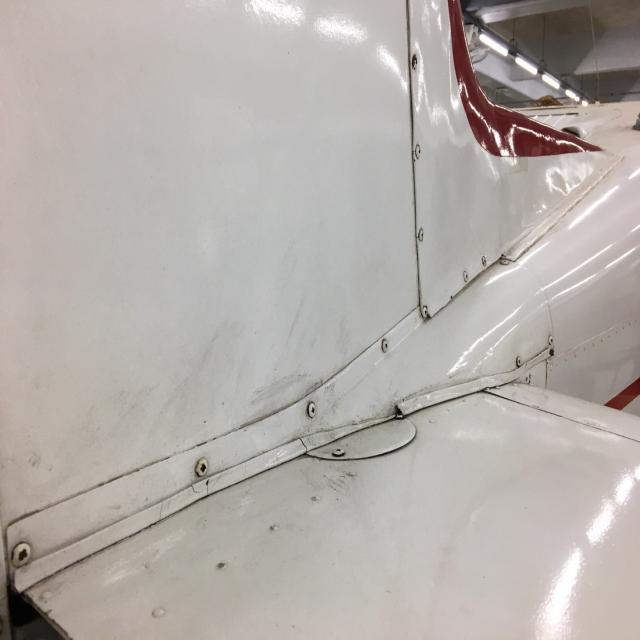Rupture: (142, 434, 292, 554)
